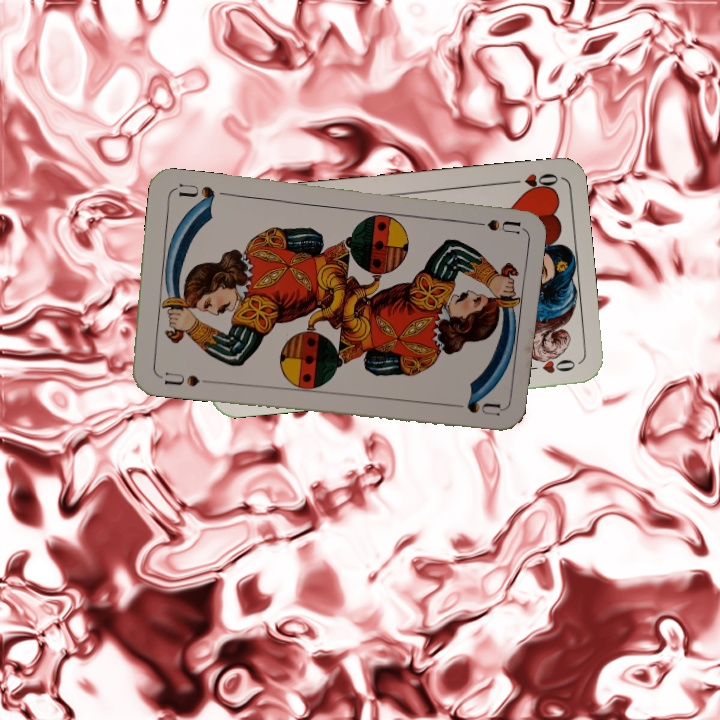HO: (501, 169, 560, 195)
SU: (153, 367, 212, 389), (461, 215, 521, 236)
